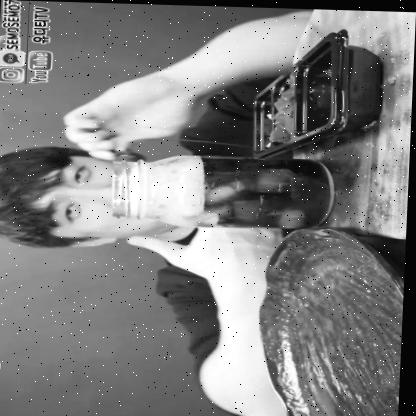streamer: (0, 2, 312, 416)
